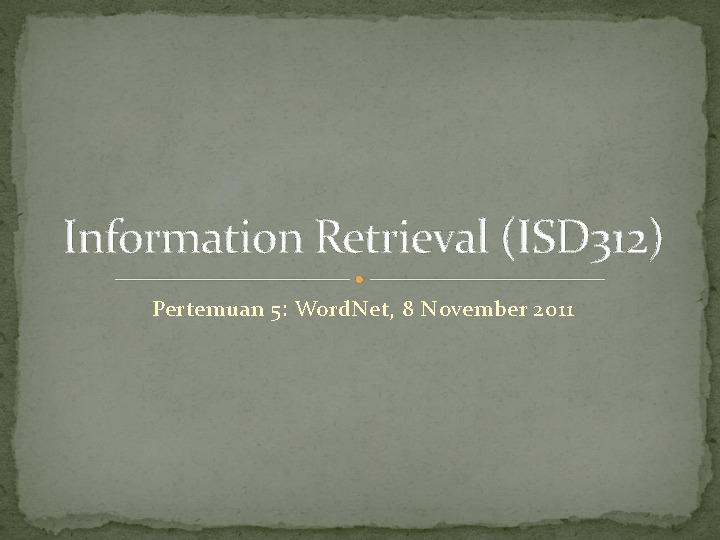title: (55, 199, 672, 341)
